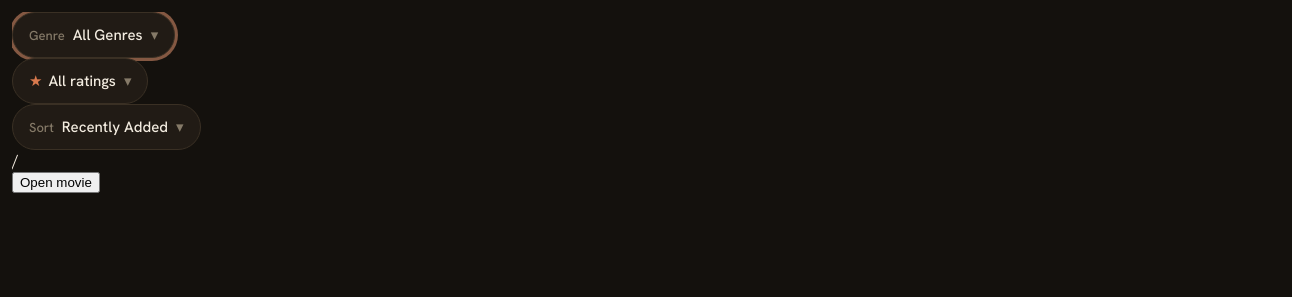
Test: LibraryFilters — the genre list › shows each genre’s count beside it
Step 1. Click the button "Genre All Genres ▾" → coordinates (94, 35), box [12, 12, 175, 58]
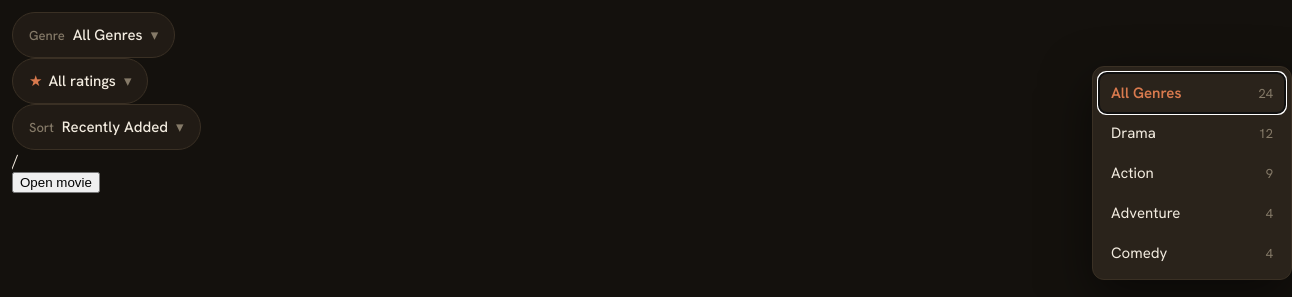
Now the menu item "Drama 12" is shown, box [1099, 113, 1285, 153]
Now the menu item "Action 9" is shown, box [1099, 153, 1285, 193]
